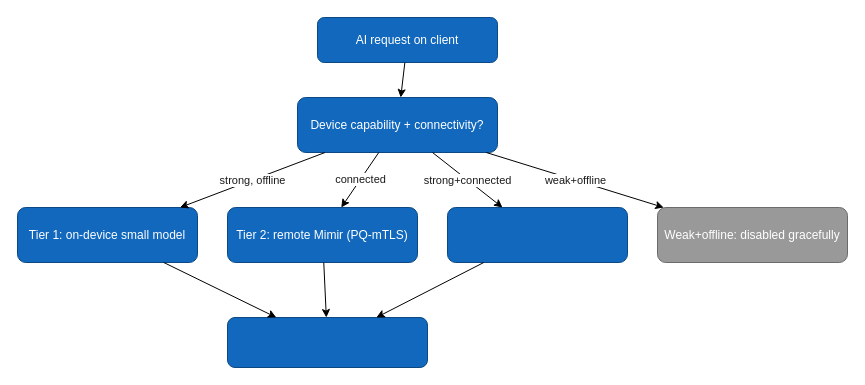
Some shapes in this 865 by 385 pixel diagram are drawn without their labels. Here are the shapes that lost their labels. From the top down, the centre of each, then its label:
(537,234): Tier 3: hybrid draft+verify
(327,342): Grounded, cited, audited response
